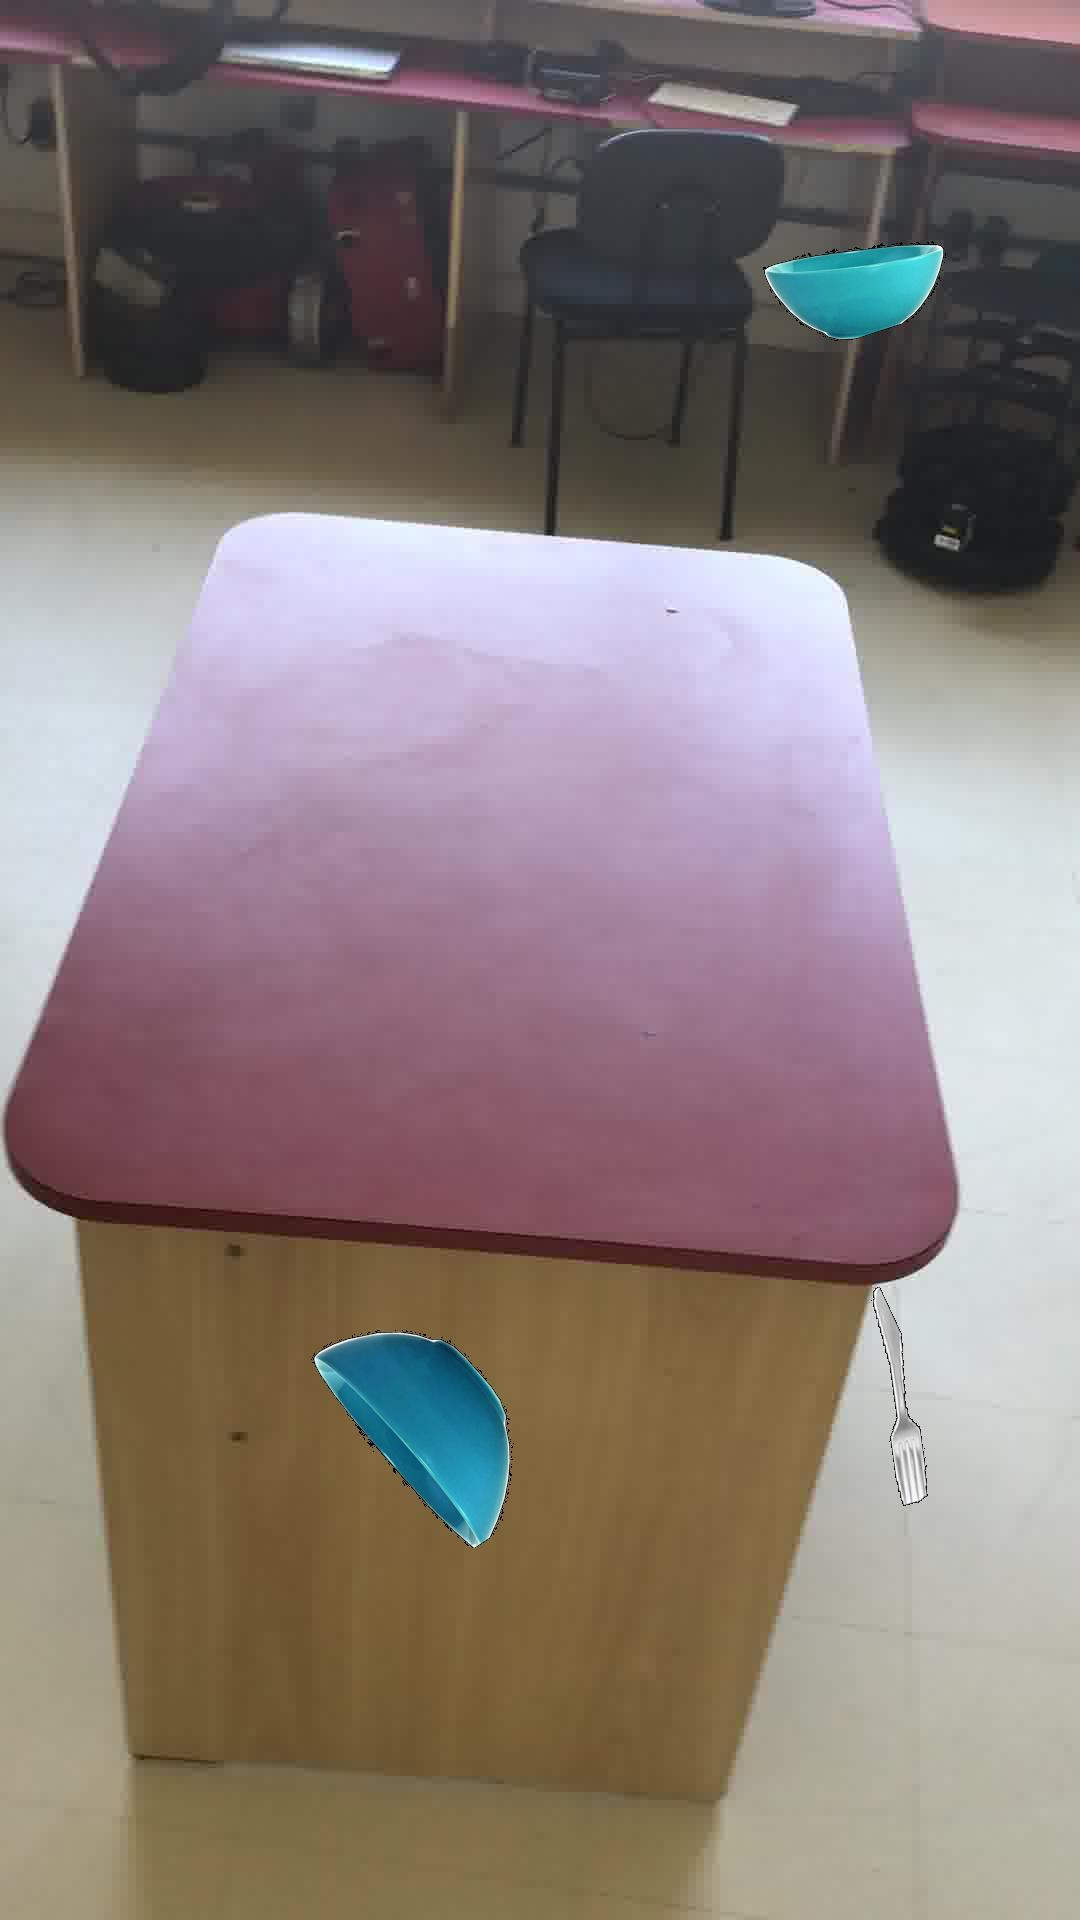bowl: (310, 1329, 510, 1547), (761, 240, 943, 339)
fork: (872, 1286, 927, 1505)
